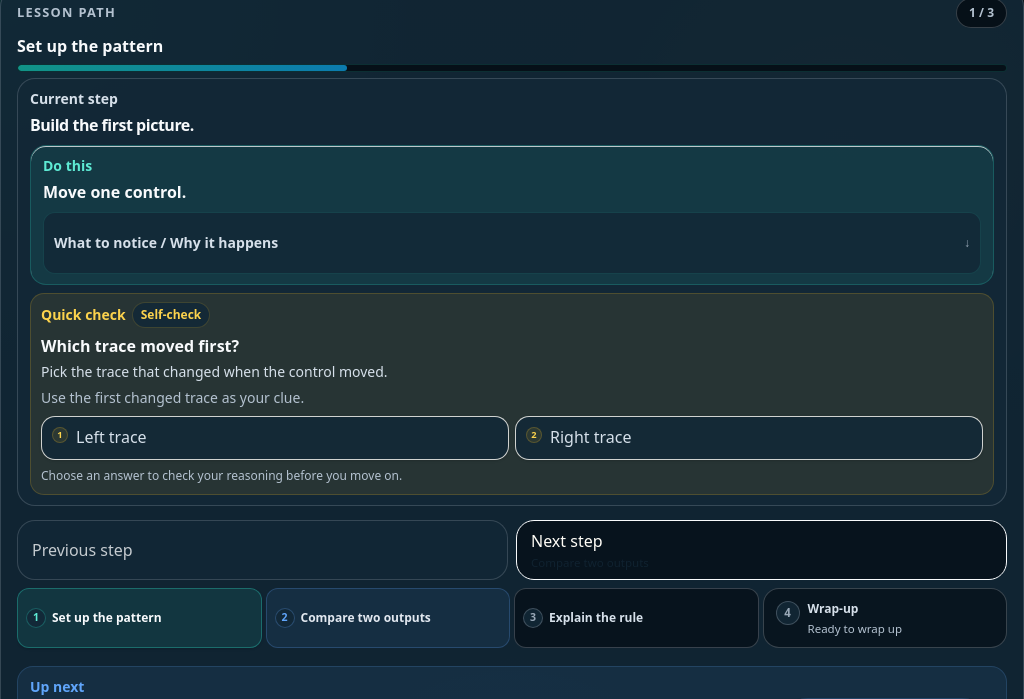
Test: ConceptPageV2LessonRail › surfaces the active inline quick check in the rail
This screenshot has width=1024, height=699.
Expected: the element with test id "concept-v2-rail-inline-check" shows "Quick check", [41,305,126,324]
Expected: the element with test id "concept-v2-rail-inline-check" shows "Self-check", [141,306,201,323]
Click the radio button labelled "1 Left trace": (111, 437) [41,416,509,460]
(page scrolled)
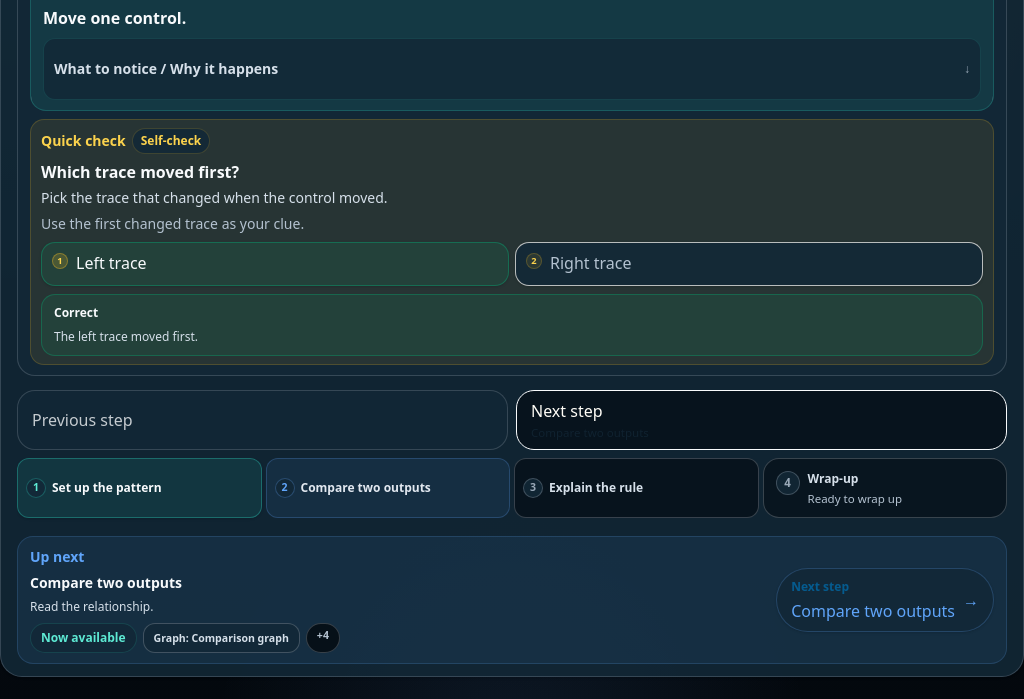
Expected: the element with test id "concept-v2-next-checkpoint" shows "Compare two outputs", [30,573,182,592]
Now the element with test id "concept-v2-rail-inline-check-choices-feedback" shows "Correct", box [54,304,98,321]
Now the element with test id "concept-v2-rail-inline-check-choices-feedback" shows "The left trace moved first.", box [54,328,198,345]
